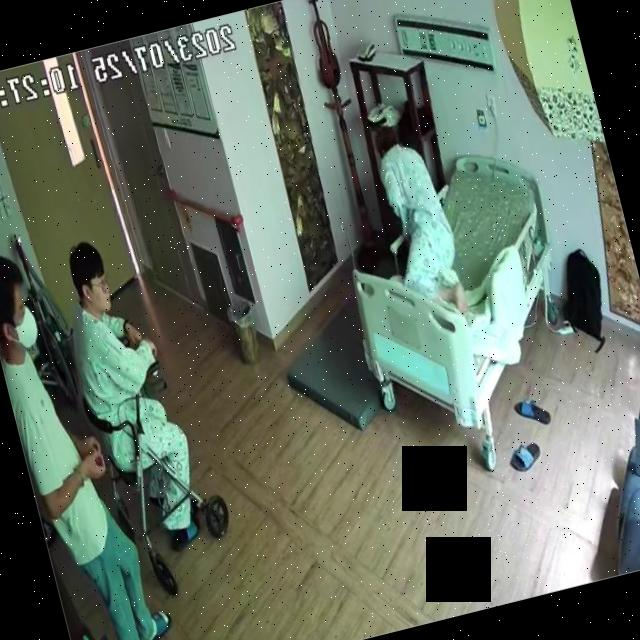danger: (366, 108, 476, 321)
patient: (365, 108, 475, 323)
